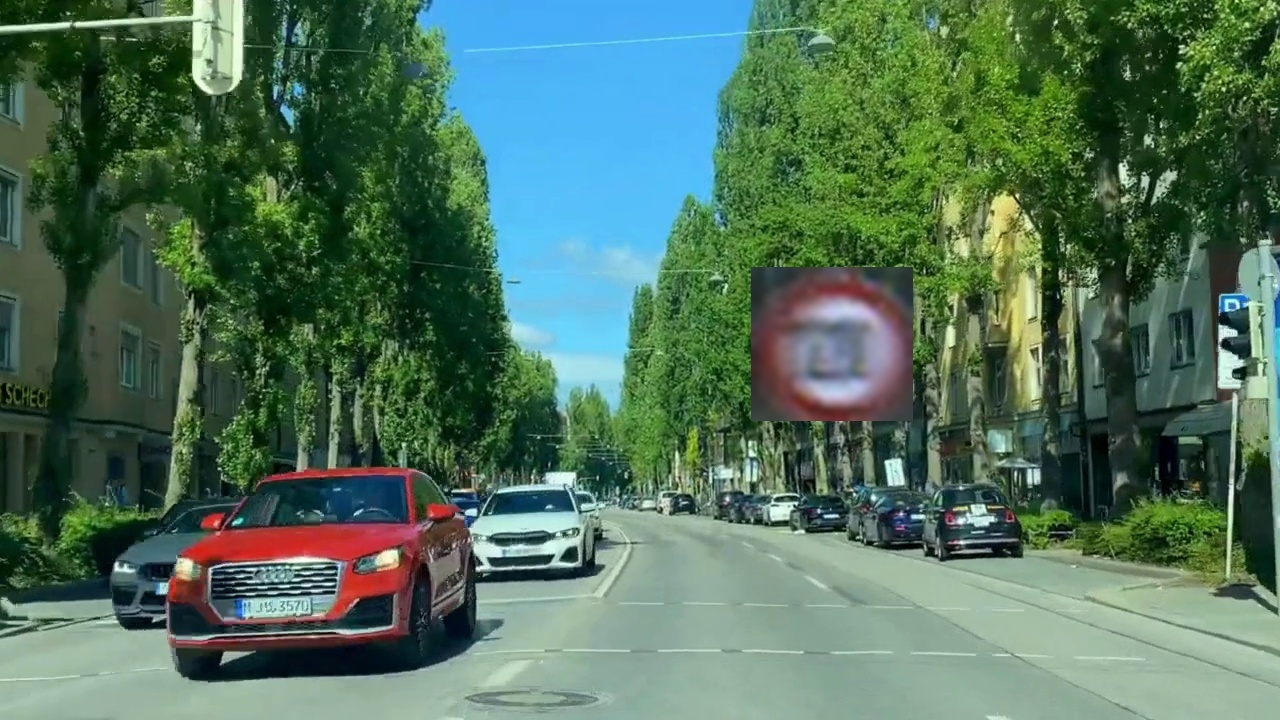Speed 120: (751, 267, 913, 421)
